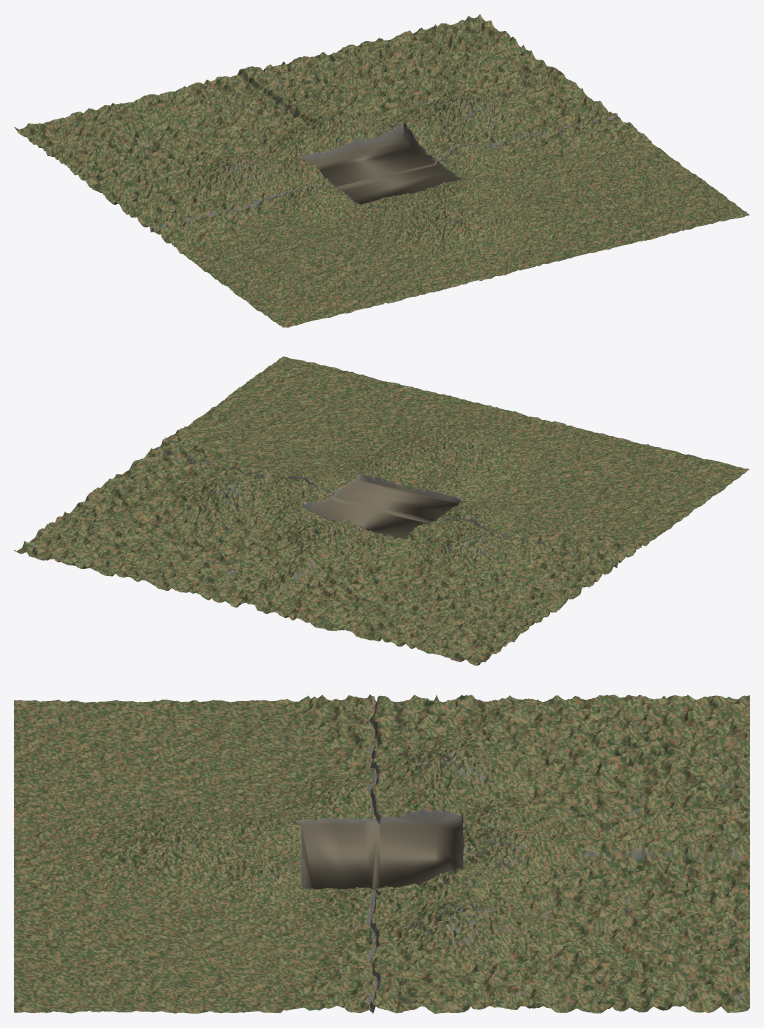
The model's file is MorrosDistantes.glb.
The picture shows the model from 3 angles, top to bottom: view 1: azimuth 30°, elevation 25°; view 2: azimuth 150°, elevation 25°; view 3: azimuth 270°, elevation 25°; orthographic projection. The views are drawn at different scales.
Visible parts, largest first — view 1: MorrosDistantes; view 2: MorrosDistantes; view 3: MorrosDistantes.
Part boxes in pixels (x1,y1,x2,y2): MorrosDistantes: (14, 14, 749, 327); MorrosDistantes: (14, 356, 749, 665); MorrosDistantes: (14, 694, 749, 1013).
Bounding box in the file's own units: 30000 × 1414 × 30000.
